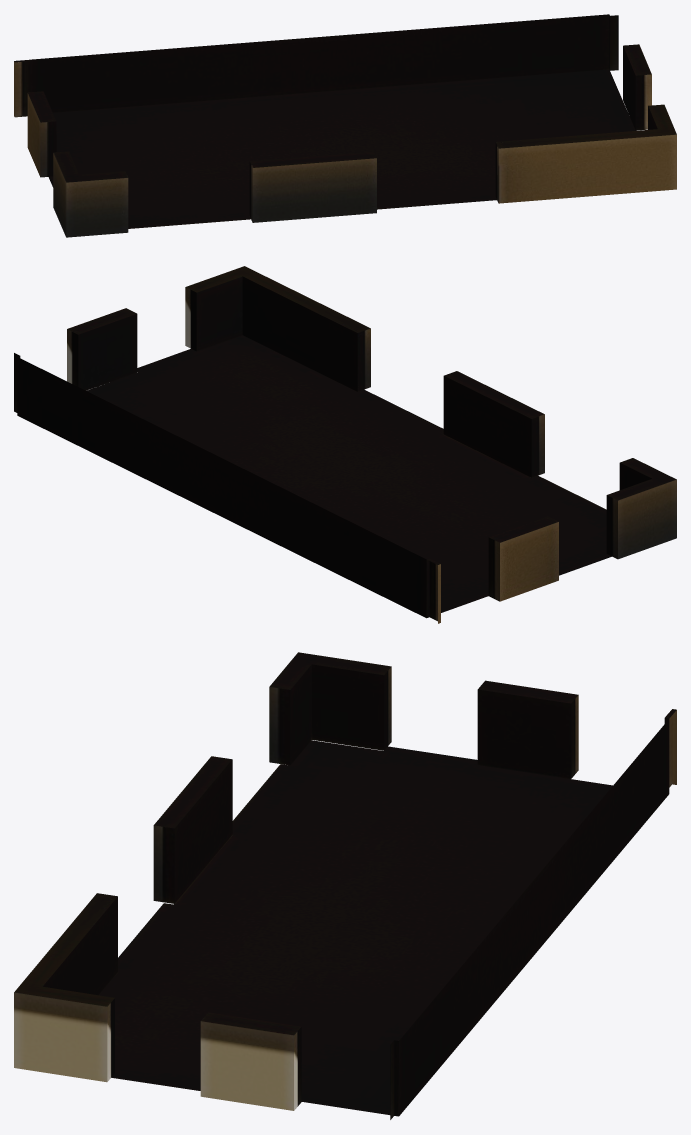
Rendered from Building_05_LV03_Walls_App01.fbx.
3 views of the same model, one above another, from view 1: azimuth 30°, elevation 25°; view 2: azimuth 150°, elevation 25°; view 3: azimuth 270°, elevation 25° (orthographic). The views are drawn at different scales.
Visible parts, largest first — view 1: Building_05_LV03_Walls_App01; view 2: Building_05_LV03_Walls_App01; view 3: Building_05_LV03_Walls_App01.
Boxes of the visible parts, x1,y1,x2,y2 form: Building_05_LV03_Walls_App01: [14, 14, 676, 237]; Building_05_LV03_Walls_App01: [14, 266, 676, 623]; Building_05_LV03_Walls_App01: [14, 652, 676, 1119].
Size of the model in its own units: 16.58 by 1.49 by 11.82.
Materials: 1 (1 with a texture image).
